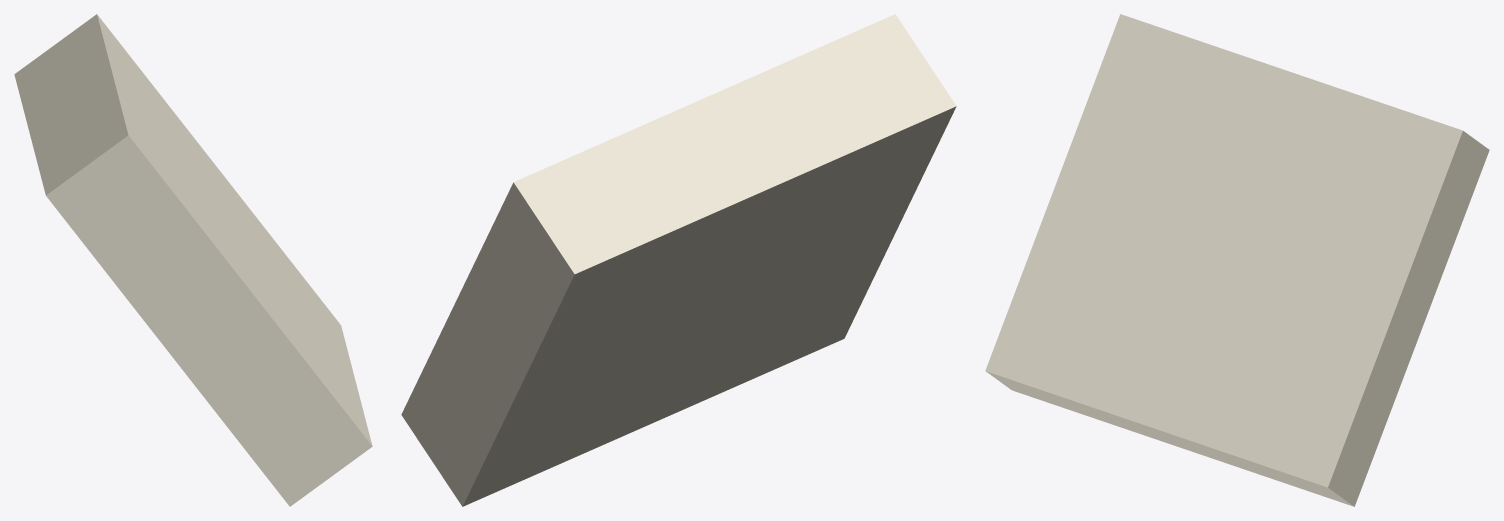
The picture shows the model from 3 angles, left to right: view 1: azimuth 30°, elevation 25°; view 2: azimuth 150°, elevation 25°; view 3: azimuth 270°, elevation 25°; orthographic projection. The views are drawn at different scales.
Visible parts, largest first — view 1: ZA_01bc1733667f8833; view 2: ZA_01bc1733667f8833; view 3: ZA_01bc1733667f8833.
Part boxes in pixels (x1,y1,x2,y2): ZA_01bc1733667f8833: (14, 14, 372, 506); ZA_01bc1733667f8833: (401, 14, 956, 506); ZA_01bc1733667f8833: (985, 14, 1489, 506).
Size of the model in its own units: 0.0022 by 0.00217 by 0.00263.
